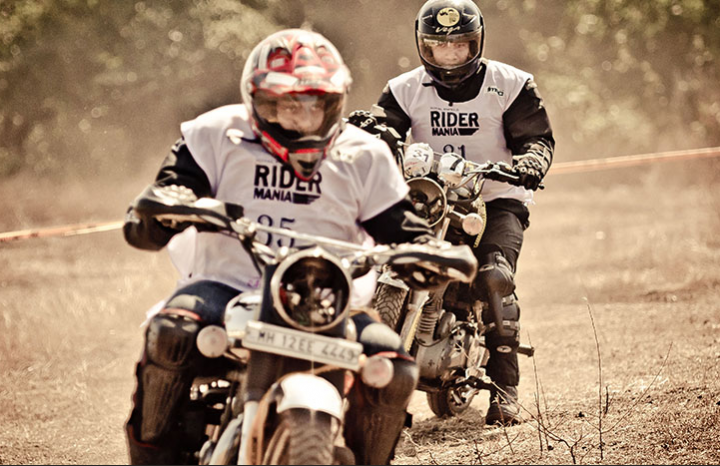helmet: (245, 21, 354, 161), (412, 1, 487, 84)
